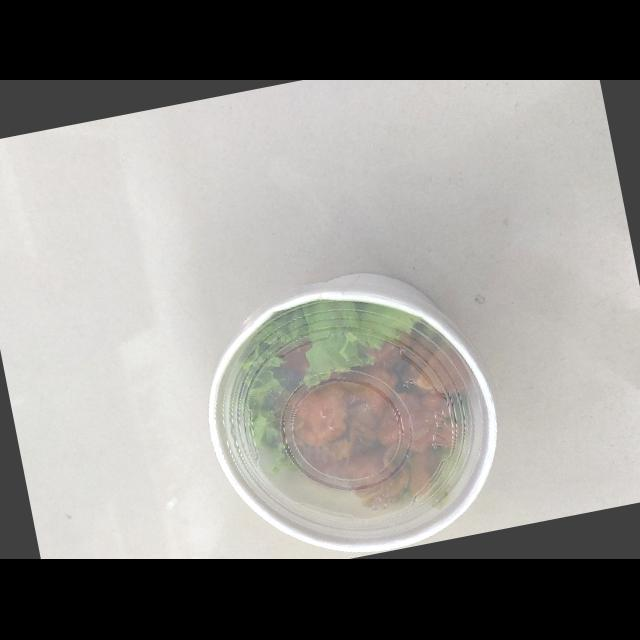rice-bowl: (171, 225, 530, 560)
